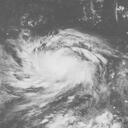cyclone: (19, 29, 114, 102)
